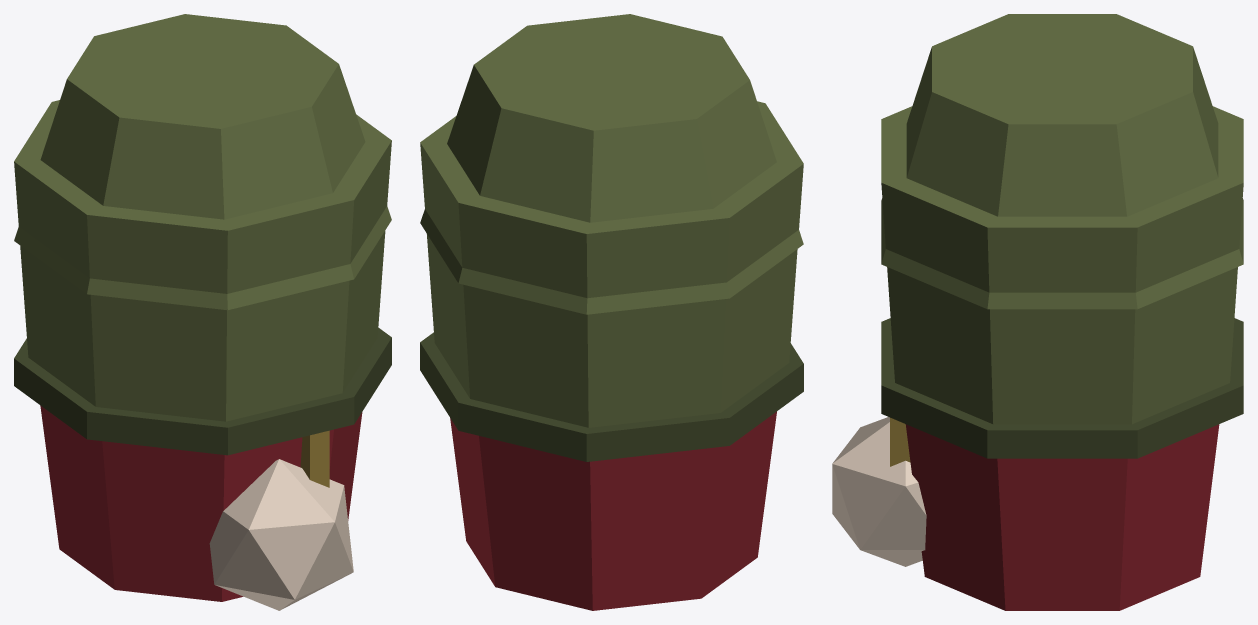
File: inf_runner_upper_leg.fbx
The picture shows the model from 3 angles, left to right: view 1: azimuth 30°, elevation 25°; view 2: azimuth 150°, elevation 25°; view 3: azimuth 270°, elevation 25°; orthographic projection. The views are drawn at different scales.
Visible parts, largest first — view 1: inf_runner_upper_leg; view 2: inf_runner_upper_leg; view 3: inf_runner_upper_leg.
Boxes of the visible parts, x1,y1,x2,y2 form: inf_runner_upper_leg: [14, 14, 391, 610]; inf_runner_upper_leg: [420, 14, 803, 610]; inf_runner_upper_leg: [832, 14, 1243, 610].
Bounding box in the file's own units: 92.39 × 140 × 105.
